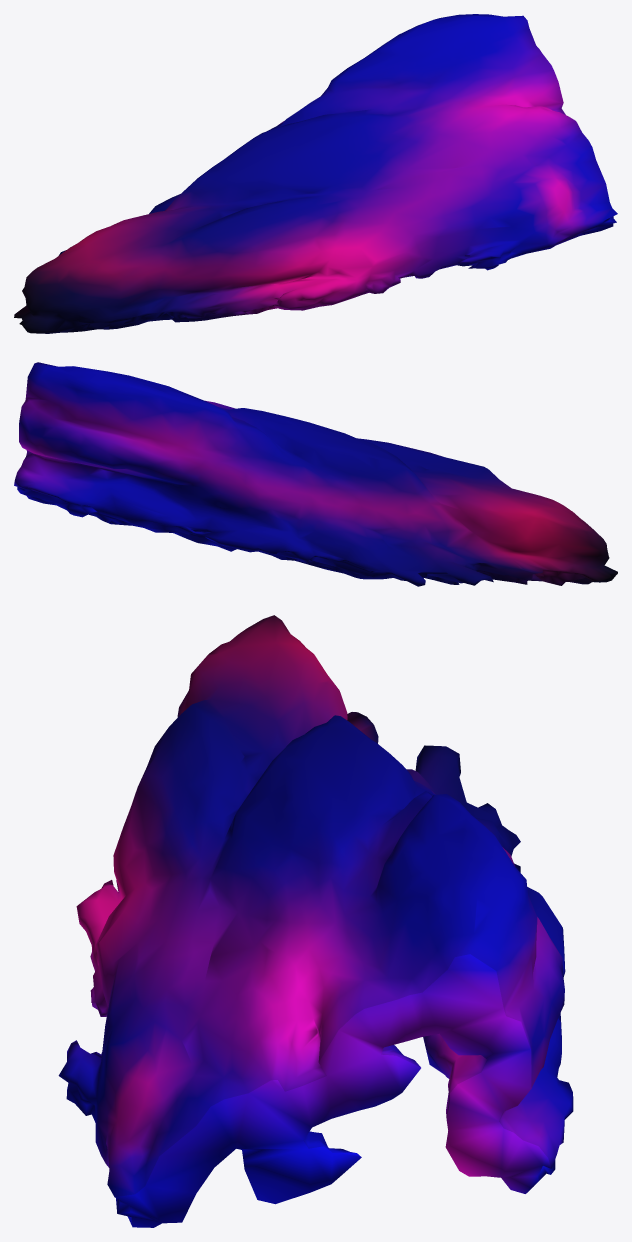
The model's file is iron_vein-u6-cold-lod0.gltf.
3 renders of one model, top to bottom at view 1: azimuth 30°, elevation 25°; view 2: azimuth 150°, elevation 25°; view 3: azimuth 270°, elevation 25°, orthographic. The views are drawn at different scales.
Parts seen in each view (by area): view 1: iron_vein-u6-cold-lod0; view 2: iron_vein-u6-cold-lod0; view 3: iron_vein-u6-cold-lod0.
Part boxes in pixels (bbox=[...]): iron_vein-u6-cold-lod0: bbox=[14, 14, 617, 333]; iron_vein-u6-cold-lod0: bbox=[14, 362, 617, 586]; iron_vein-u6-cold-lod0: bbox=[58, 615, 573, 1227].
Size of the model in its own units: 1.85 by 0.4884 by 0.78.
